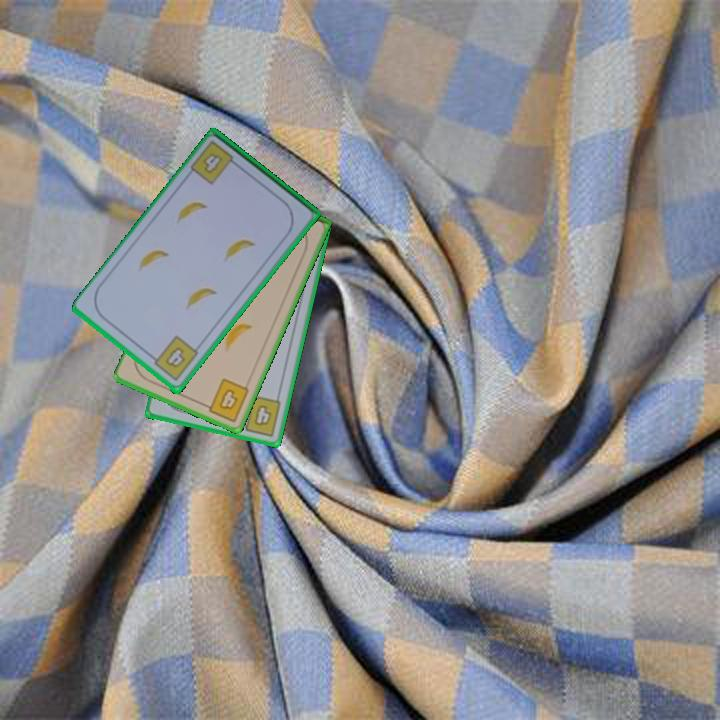4b: (146, 333, 201, 384), (199, 375, 252, 425), (234, 392, 284, 439), (199, 150, 226, 177)
